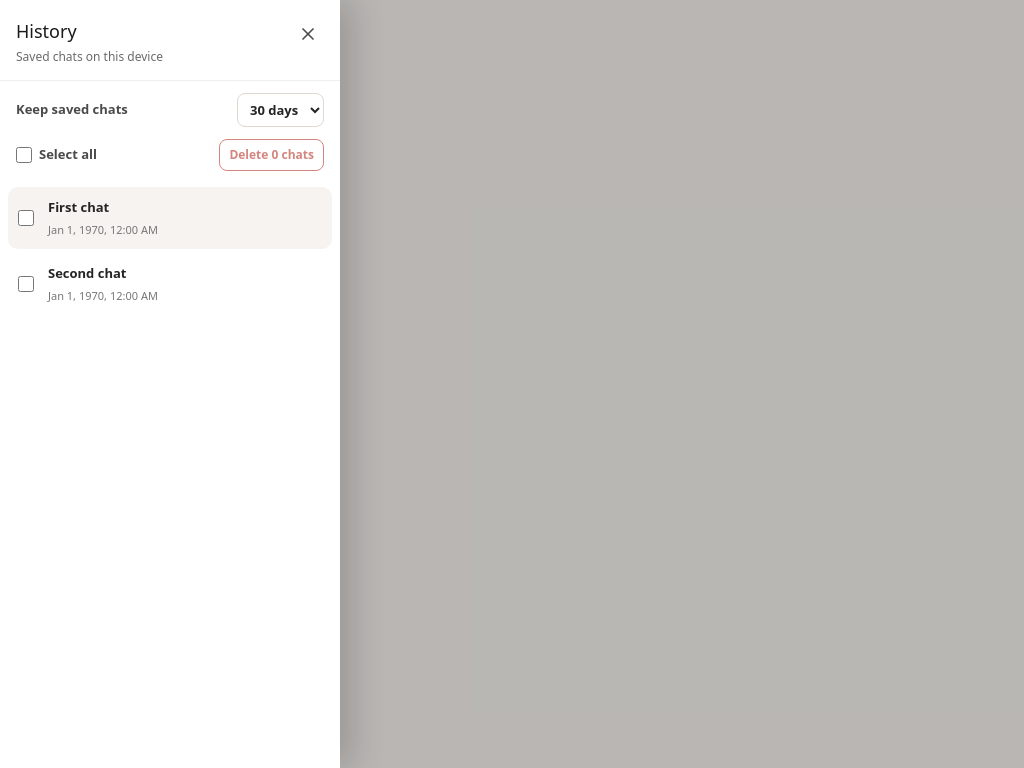
Test: HistorySidebar › uses an indeterminate select-all checkbox for a partial selection
Click the checkbox named "Select First chat".
click(26, 218)  # box [18,210,34,226]
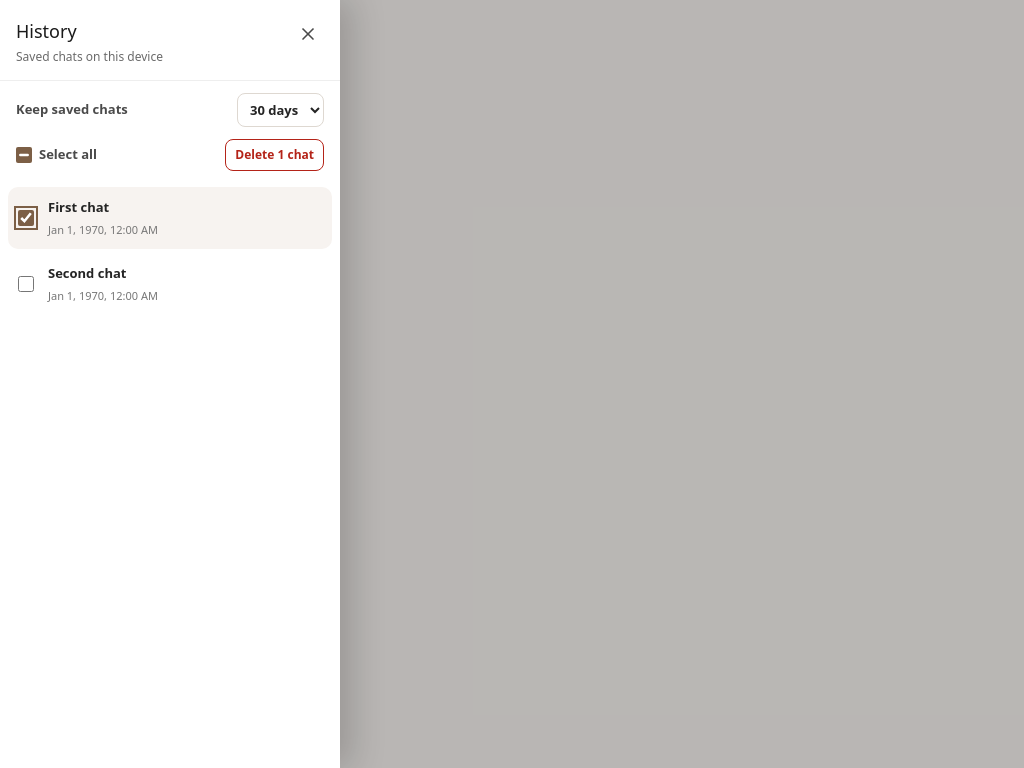
Check: the button "Delete 1 chat" is enabled, box [225,139,324,171]
